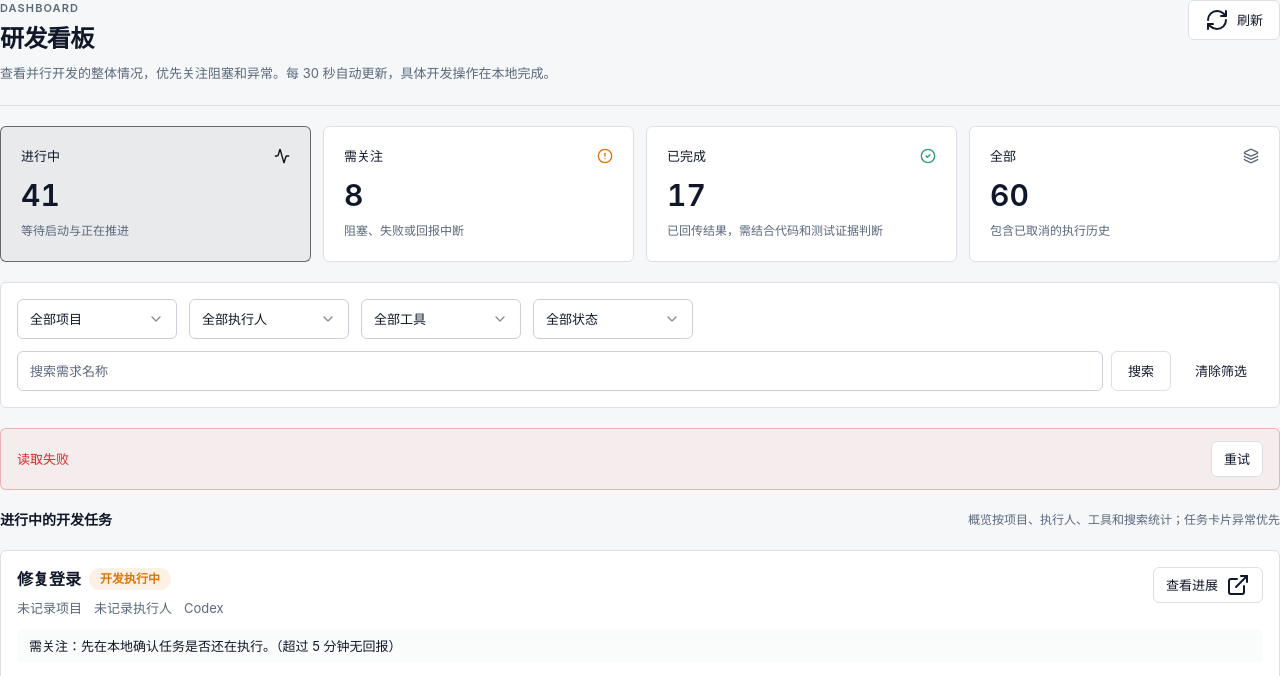
it: 静默刷新保留页码和已有内容，失败后仍可查看和重试
The image size is (1280, 676).
Expected: the message "读取失败 重试" is shown, x1=0 y1=428 x2=1279 y2=490
Click the button "重试": (1237, 458) x1=1211 y1=440 x2=1263 y2=476
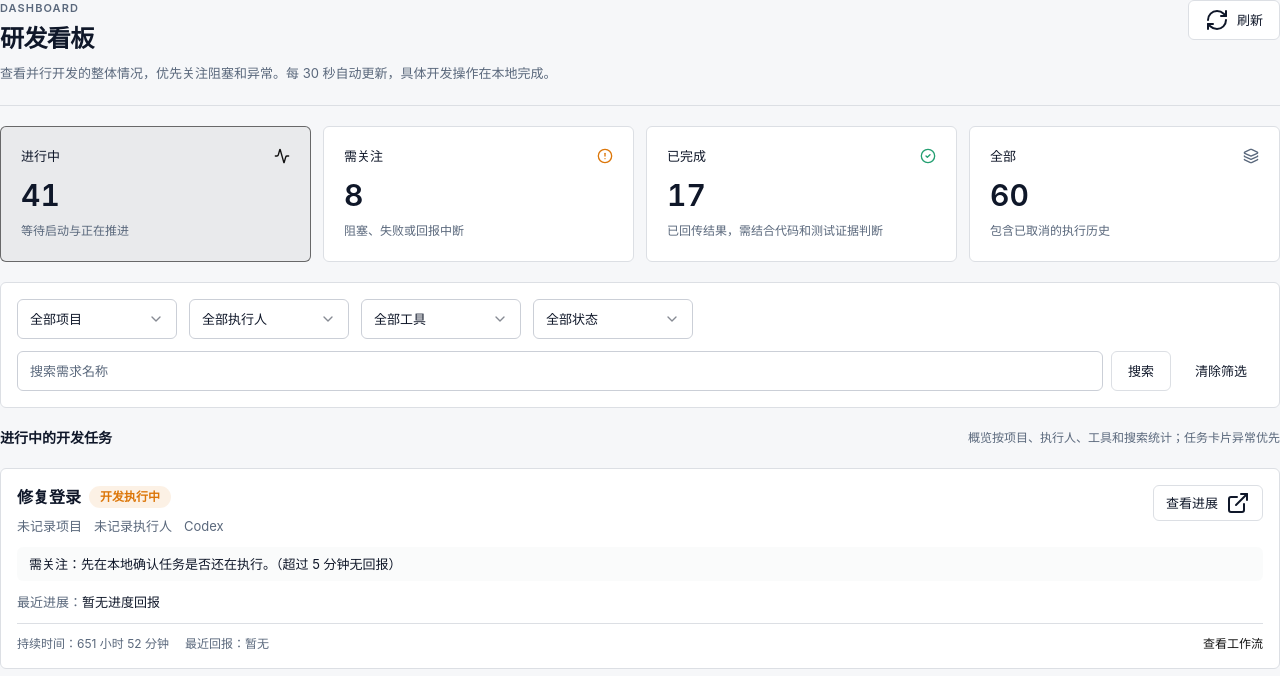
Result: the message "读取失败 重试" is gone
